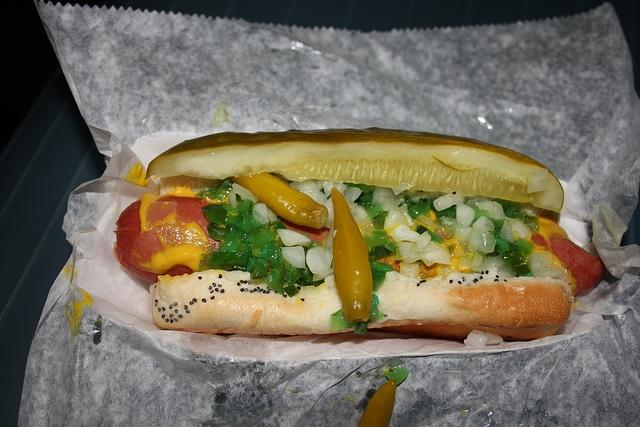onion: (323, 198, 357, 229), (306, 245, 332, 274), (465, 229, 495, 254), (418, 244, 451, 264), (277, 229, 311, 247), (388, 224, 421, 242), (280, 246, 306, 268), (476, 201, 506, 220), (433, 194, 464, 212), (232, 183, 258, 204), (511, 218, 532, 242), (456, 202, 476, 226), (384, 210, 408, 230), (352, 204, 372, 227), (300, 188, 328, 204), (464, 328, 488, 346), (472, 216, 495, 233), (400, 260, 420, 278), (252, 203, 268, 225), (398, 239, 416, 258), (532, 252, 550, 270), (392, 182, 416, 194), (416, 231, 431, 250), (344, 187, 362, 202), (373, 194, 395, 206), (400, 252, 422, 264), (298, 179, 316, 190), (334, 182, 348, 195), (228, 190, 236, 209), (439, 217, 456, 225), (505, 217, 516, 229), (314, 178, 322, 190), (428, 198, 436, 208)
